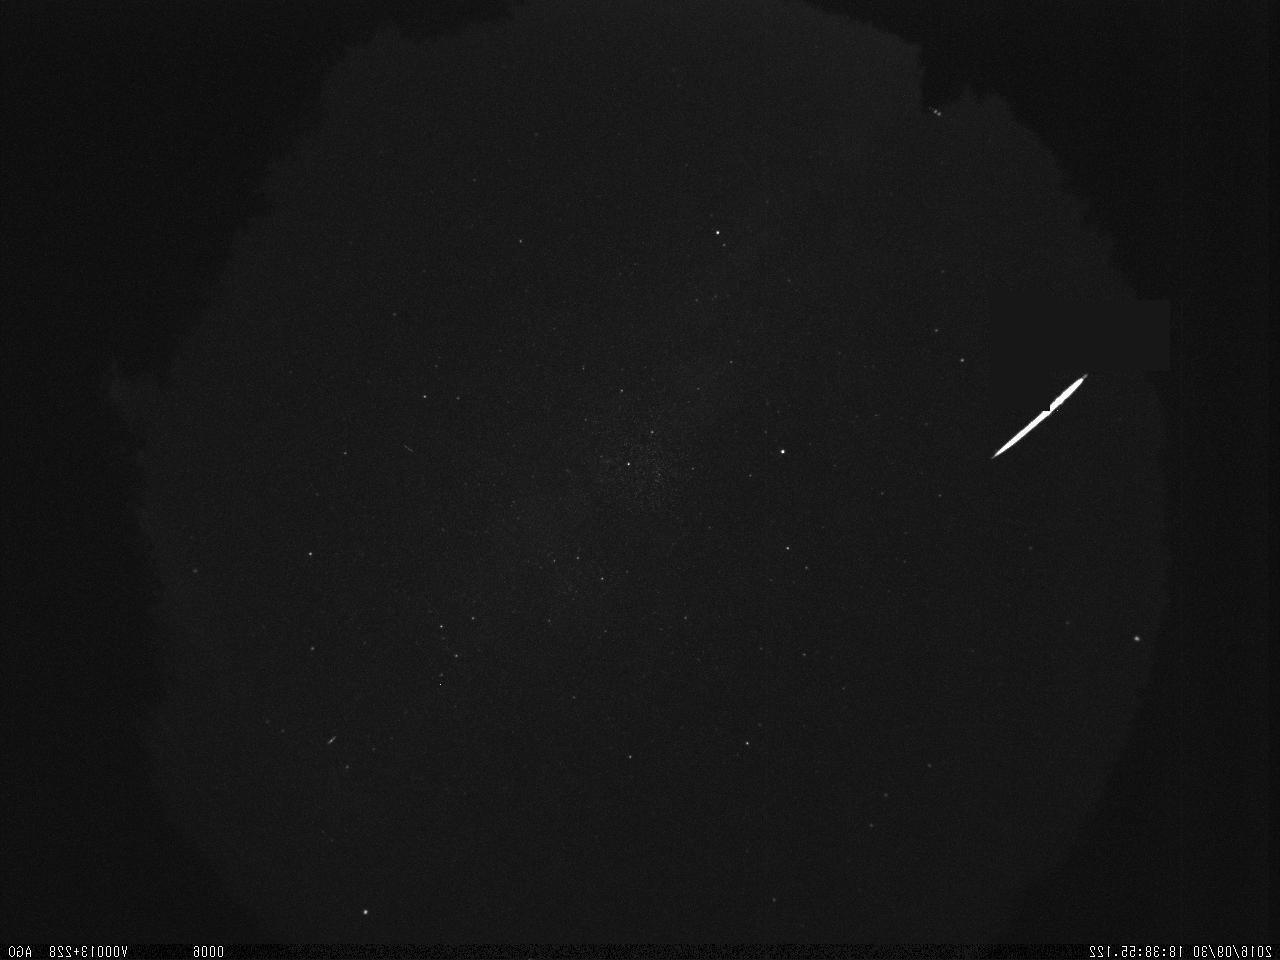meteor: (990, 370, 1094, 464)
